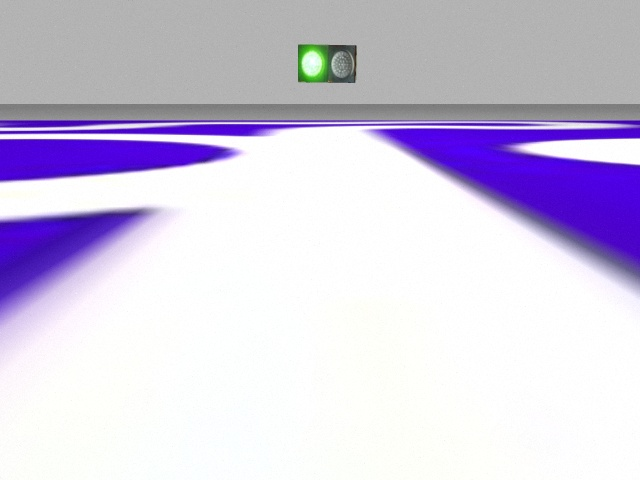green: (296, 45, 329, 83)
